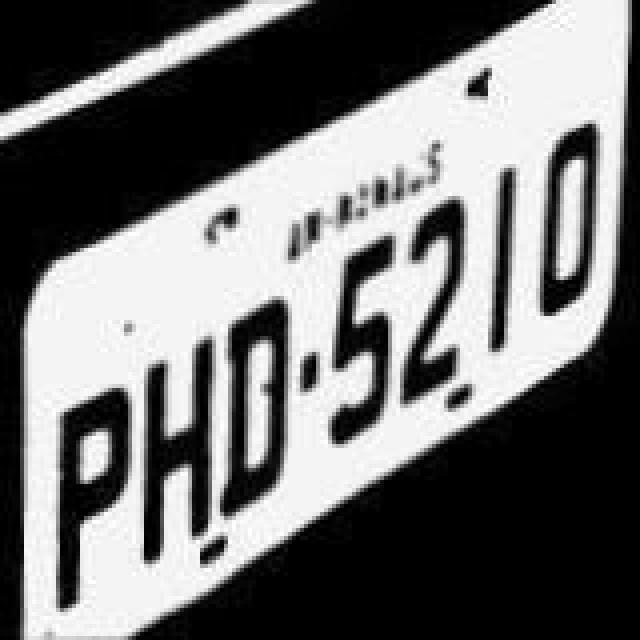1: (478, 136, 522, 380)
2: (398, 194, 478, 406)
5: (328, 234, 404, 458)
D: (218, 288, 294, 528)
H: (140, 322, 220, 566)
O: (532, 116, 604, 332)
P: (54, 362, 138, 622)
